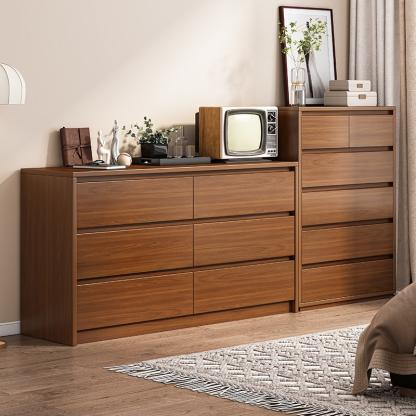Sideboard: (23, 160, 300, 347)
